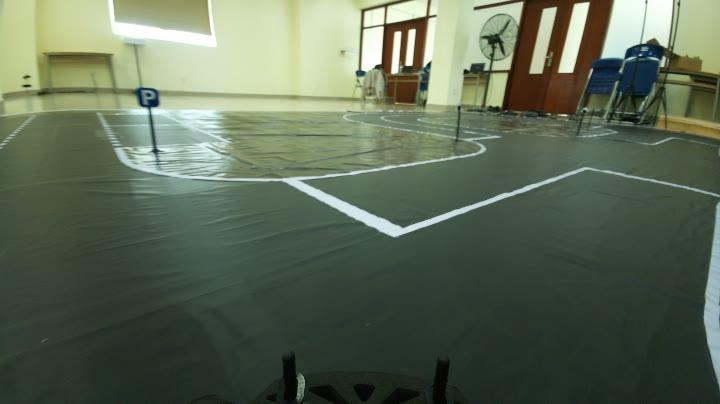parking: (132, 82, 160, 114)
